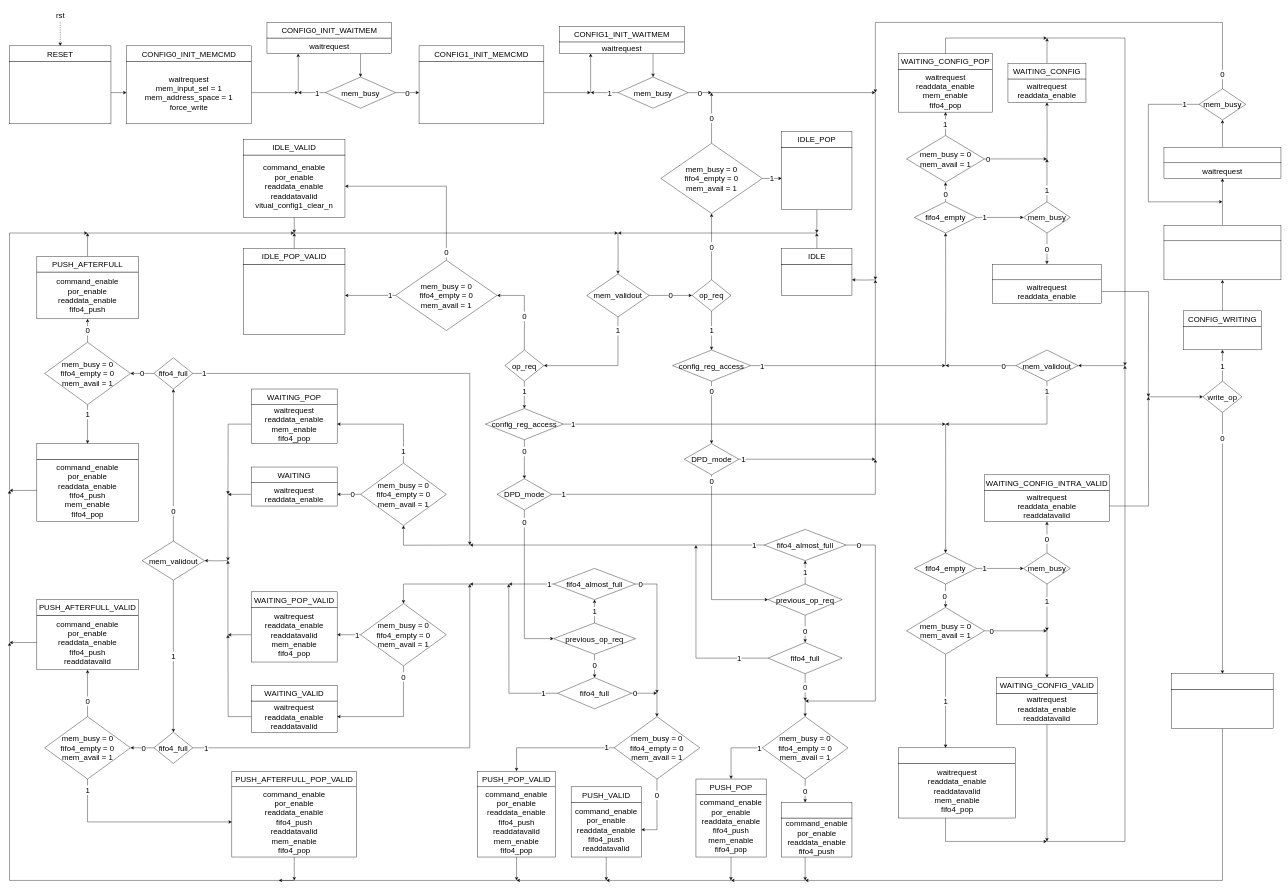
Image size: 1288x890. Some labels were removed from this diagram. The centre of each missing label's shape, as x and y in pixels:
command_enable por_enable readdata_enable: (816,279)
command_enable por_enable readdata_enable mem_enable fifo4_pop: (816,178)
command_enable por_enable readdata_enable readdatavalid mem_enable fifo4_pop: (294,299)
command_enable por_enable readdatavalid out_sel = 1: (1222,708)
CONFIG_READING_VALID: (1222,681)
CONFIG_WRITING_MEMCMD: (1222,233)
CONFIG_WRITING_WAITMEM: (1222,155)
PUSH: (816,810)
PUSH_AFTERFULL_POP: (87,451)
WAITING_CONFIG_INTRA: (1047,272)
WAITING_CONFIG_POP_VALID: (957,755)
waitrequest fifo4_clear_n por_clear_n tgl_clear_n virtual_config_clear_n: (60,92)
waitrequest mem_input_sel = 1 address_space_sel = 1 force_write: (1222,260)
waitrequest mem_input_sel = 1 address_space_sel = 1 force_write config_sel = 1: (481,92)
waitrequest virtual_config_enable: (1222,338)
